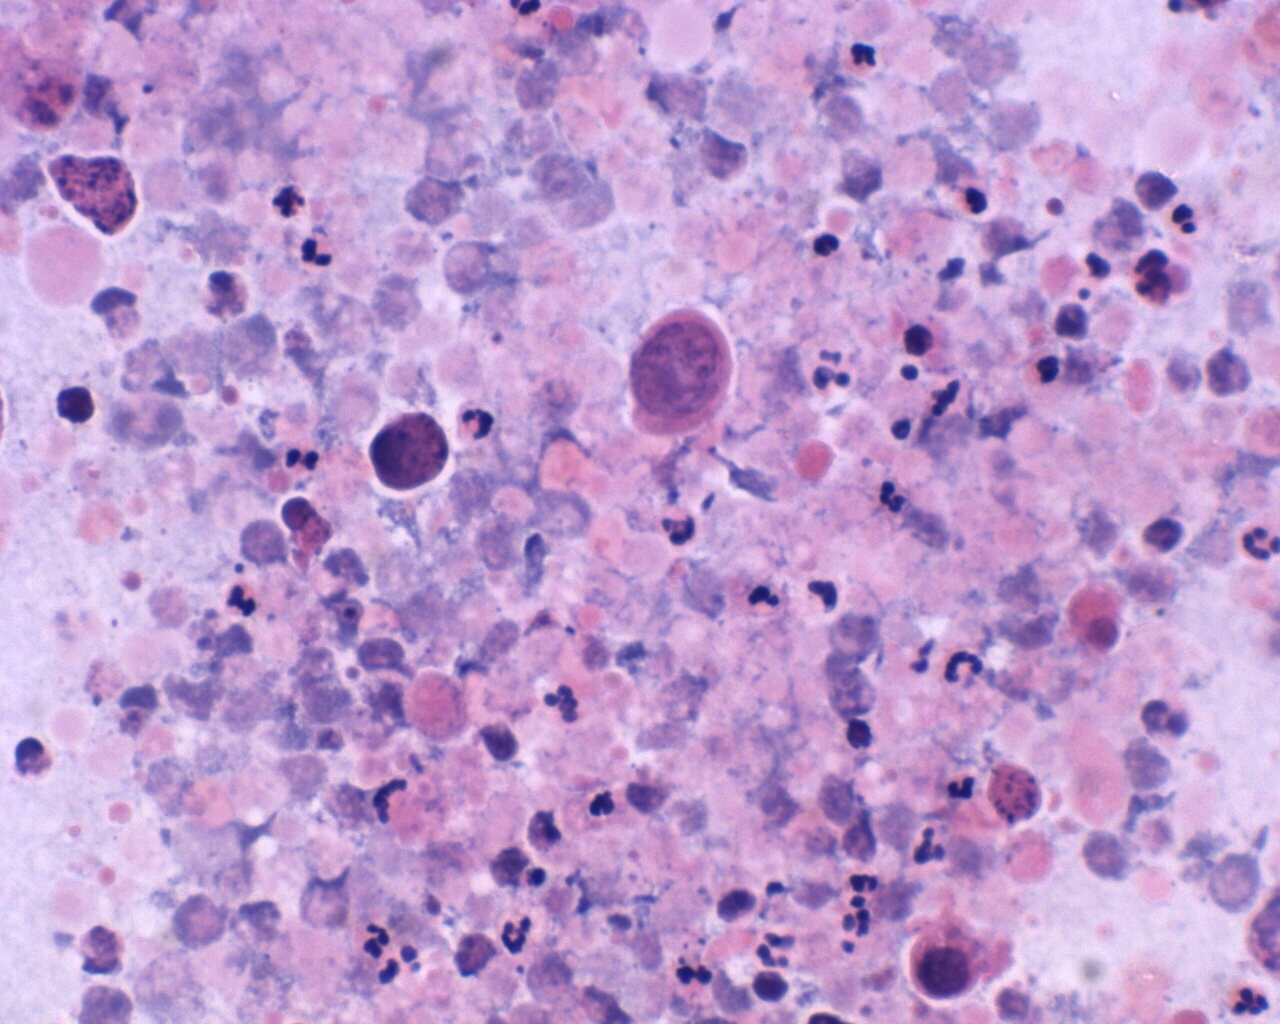ab: (630, 303, 742, 448), (368, 406, 452, 495), (907, 915, 985, 1004)
neutro: (294, 228, 344, 273), (939, 643, 988, 683), (462, 400, 502, 439), (945, 769, 980, 801)
